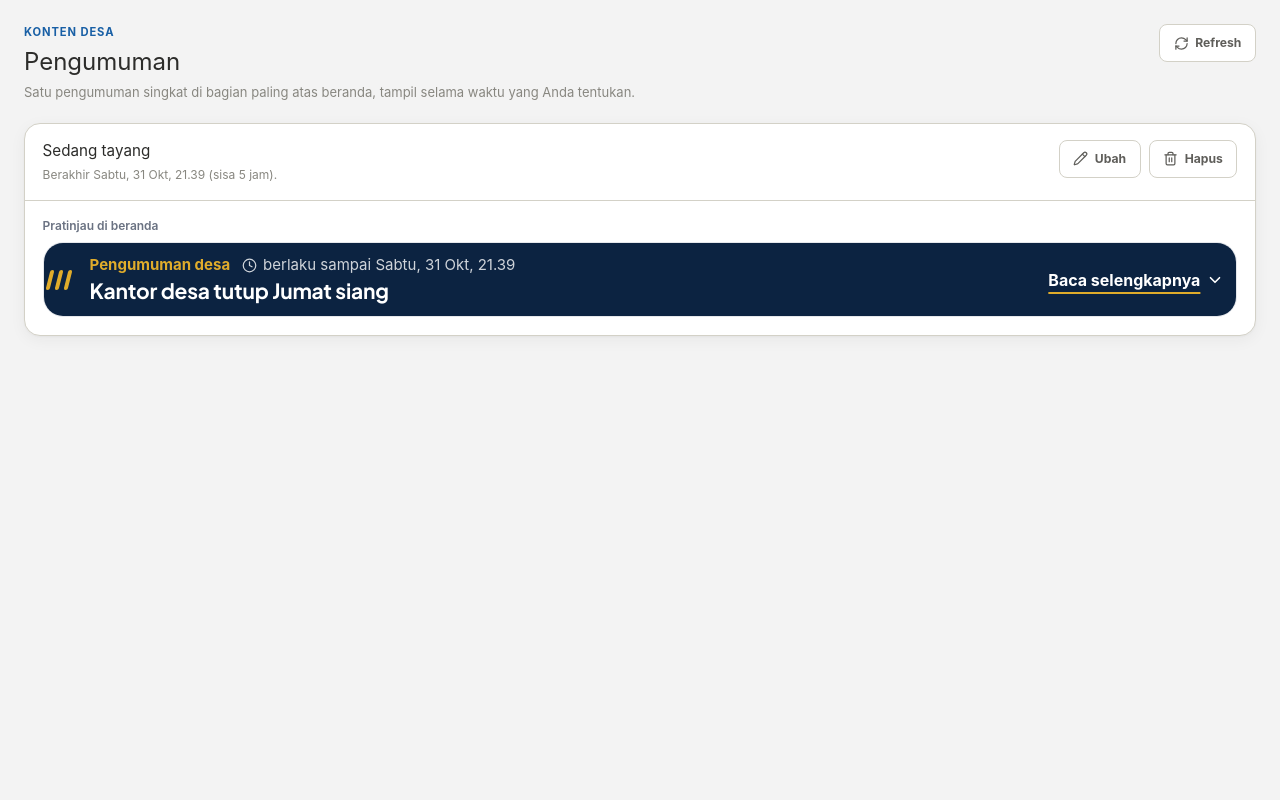
Test: KelolaPengumumanPage › warns when the linked news item is no longer published
What coordinates should you click on to do the following:
click the button "Ubah"
I would click on:
 (1100, 159)
Its box is [1059,140,1141,178].
(page scrolled)
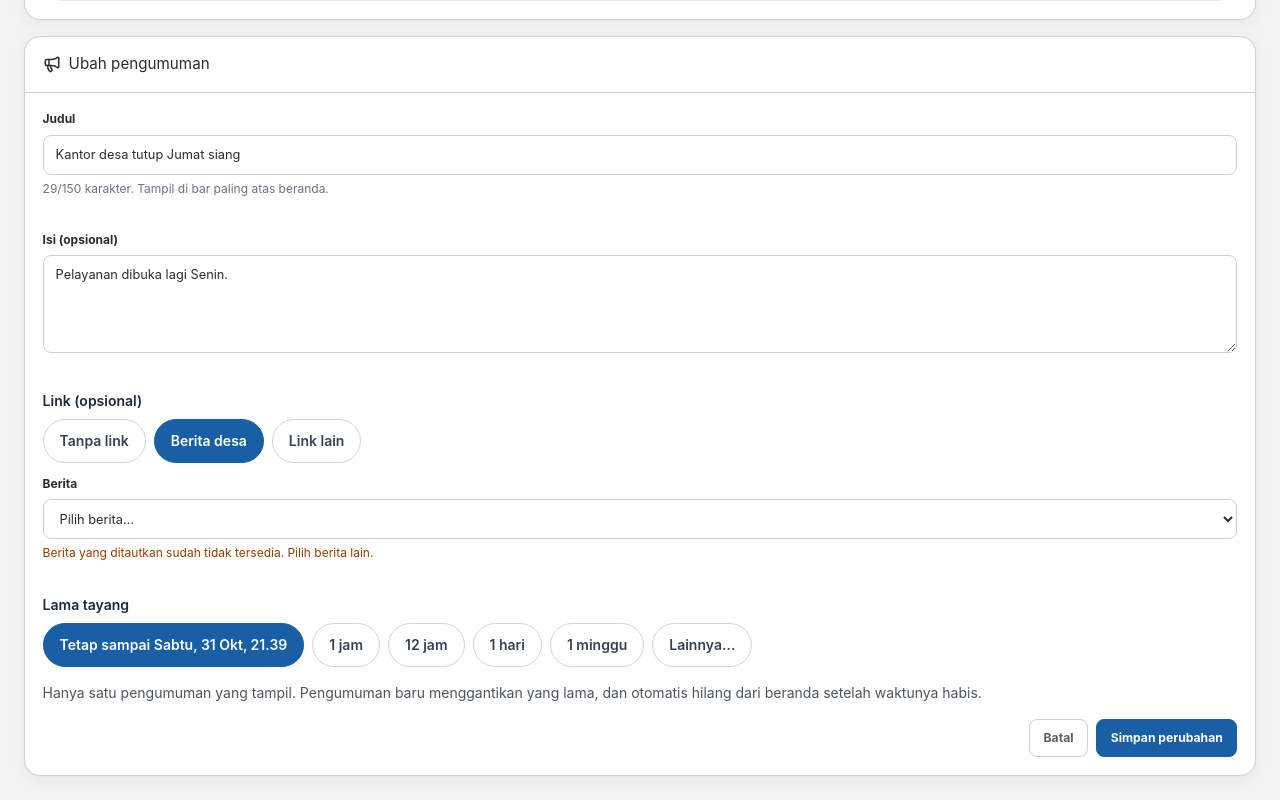
Result: the text "Berita yang ditautkan sudah tidak tersedia. Pilih berita lain." is shown at [43,545,373,560]
Result: the dropdown labelled "Berita" shows "Pilih berita…" at [43,499,1237,539]
